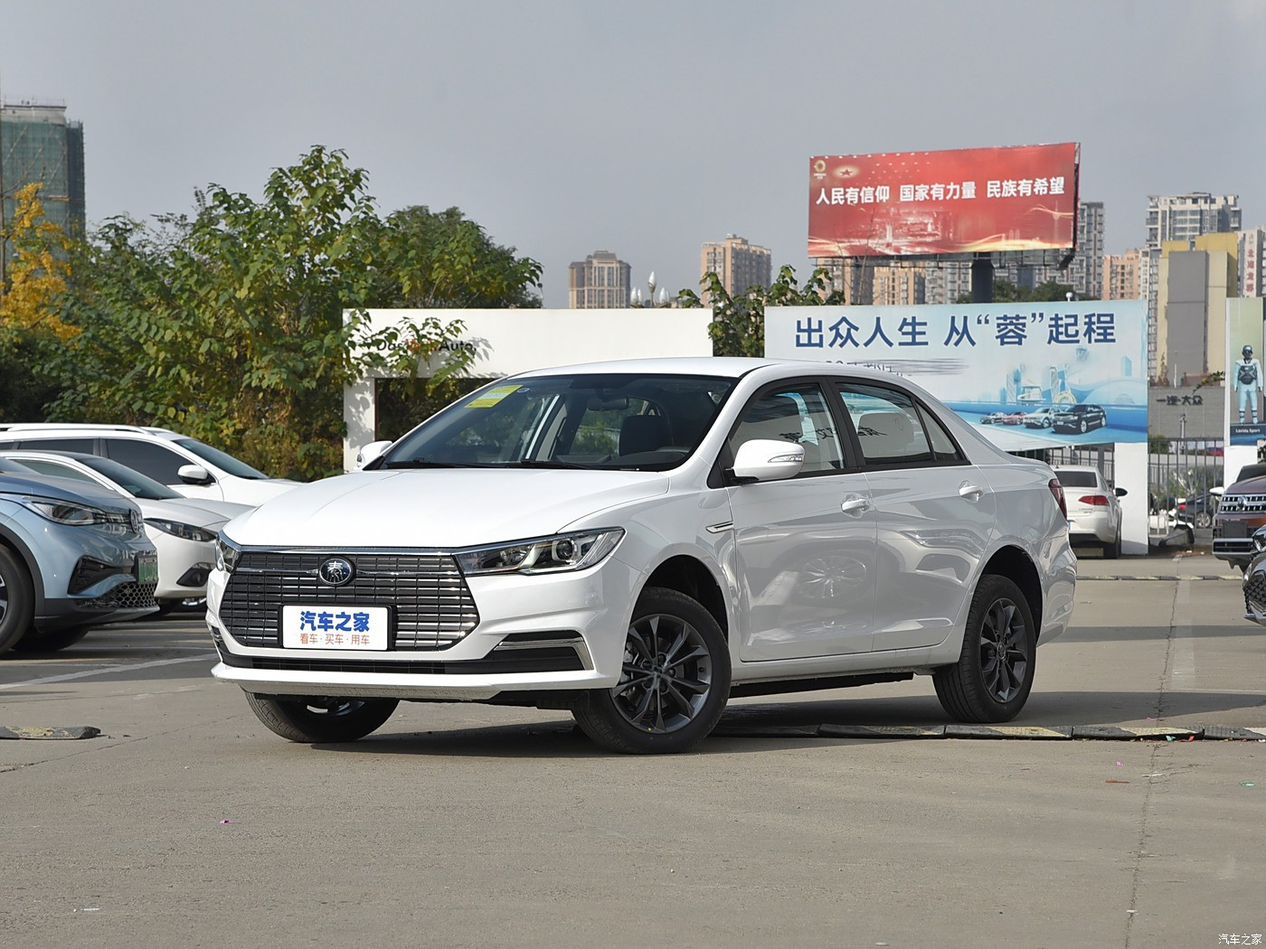BYD Qin: (320, 559, 350, 584)
